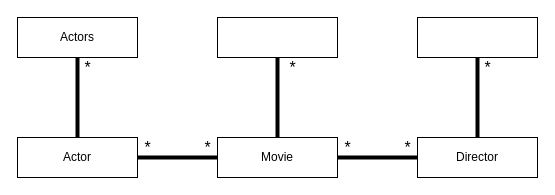
Some shapes in this 555 by 195 pixel diagram are drawn without their labels. The shapes that lost their labels are listed below. From the top down, each one's box as (x1, y1, x2, y2) in pixels, then its label:
(216, 16, 338, 58): Movies
(416, 16, 538, 58): Directors
